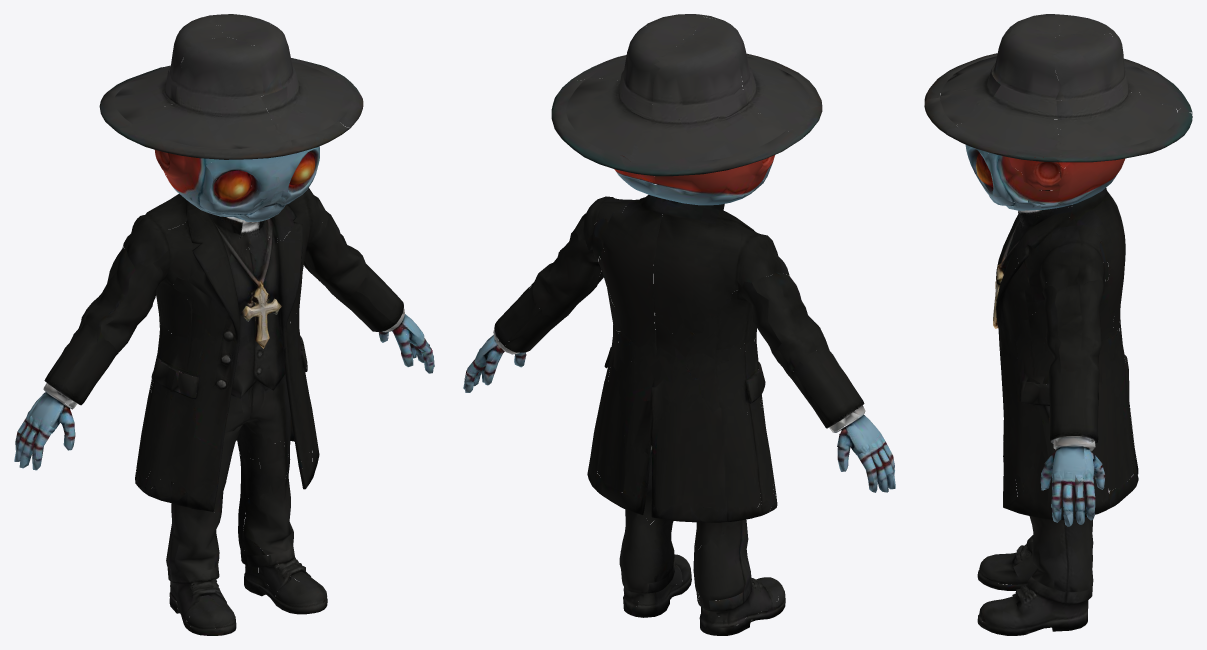
The model's file is minister.glb.
3 views of the same model, side by side, from view 1: azimuth 30°, elevation 25°; view 2: azimuth 150°, elevation 25°; view 3: azimuth 270°, elevation 25° (orthographic). The views are drawn at different scales.
Visible parts, largest first — view 1: tripo_node_f53480cd-f4e1-4d5d-a2df-9b9293ac9654; view 2: tripo_node_f53480cd-f4e1-4d5d-a2df-9b9293ac9654; view 3: tripo_node_f53480cd-f4e1-4d5d-a2df-9b9293ac9654.
Boxes of the visible parts, left/top/right/bottom form: tripo_node_f53480cd-f4e1-4d5d-a2df-9b9293ac9654: left=14, top=14, right=434, bottom=635; tripo_node_f53480cd-f4e1-4d5d-a2df-9b9293ac9654: left=463, top=14, right=895, bottom=635; tripo_node_f53480cd-f4e1-4d5d-a2df-9b9293ac9654: left=924, top=14, right=1192, bottom=635.
Size of the model in its own units: 0.7072 by 0.9232 by 0.3918.
1 material, 1 textured.
